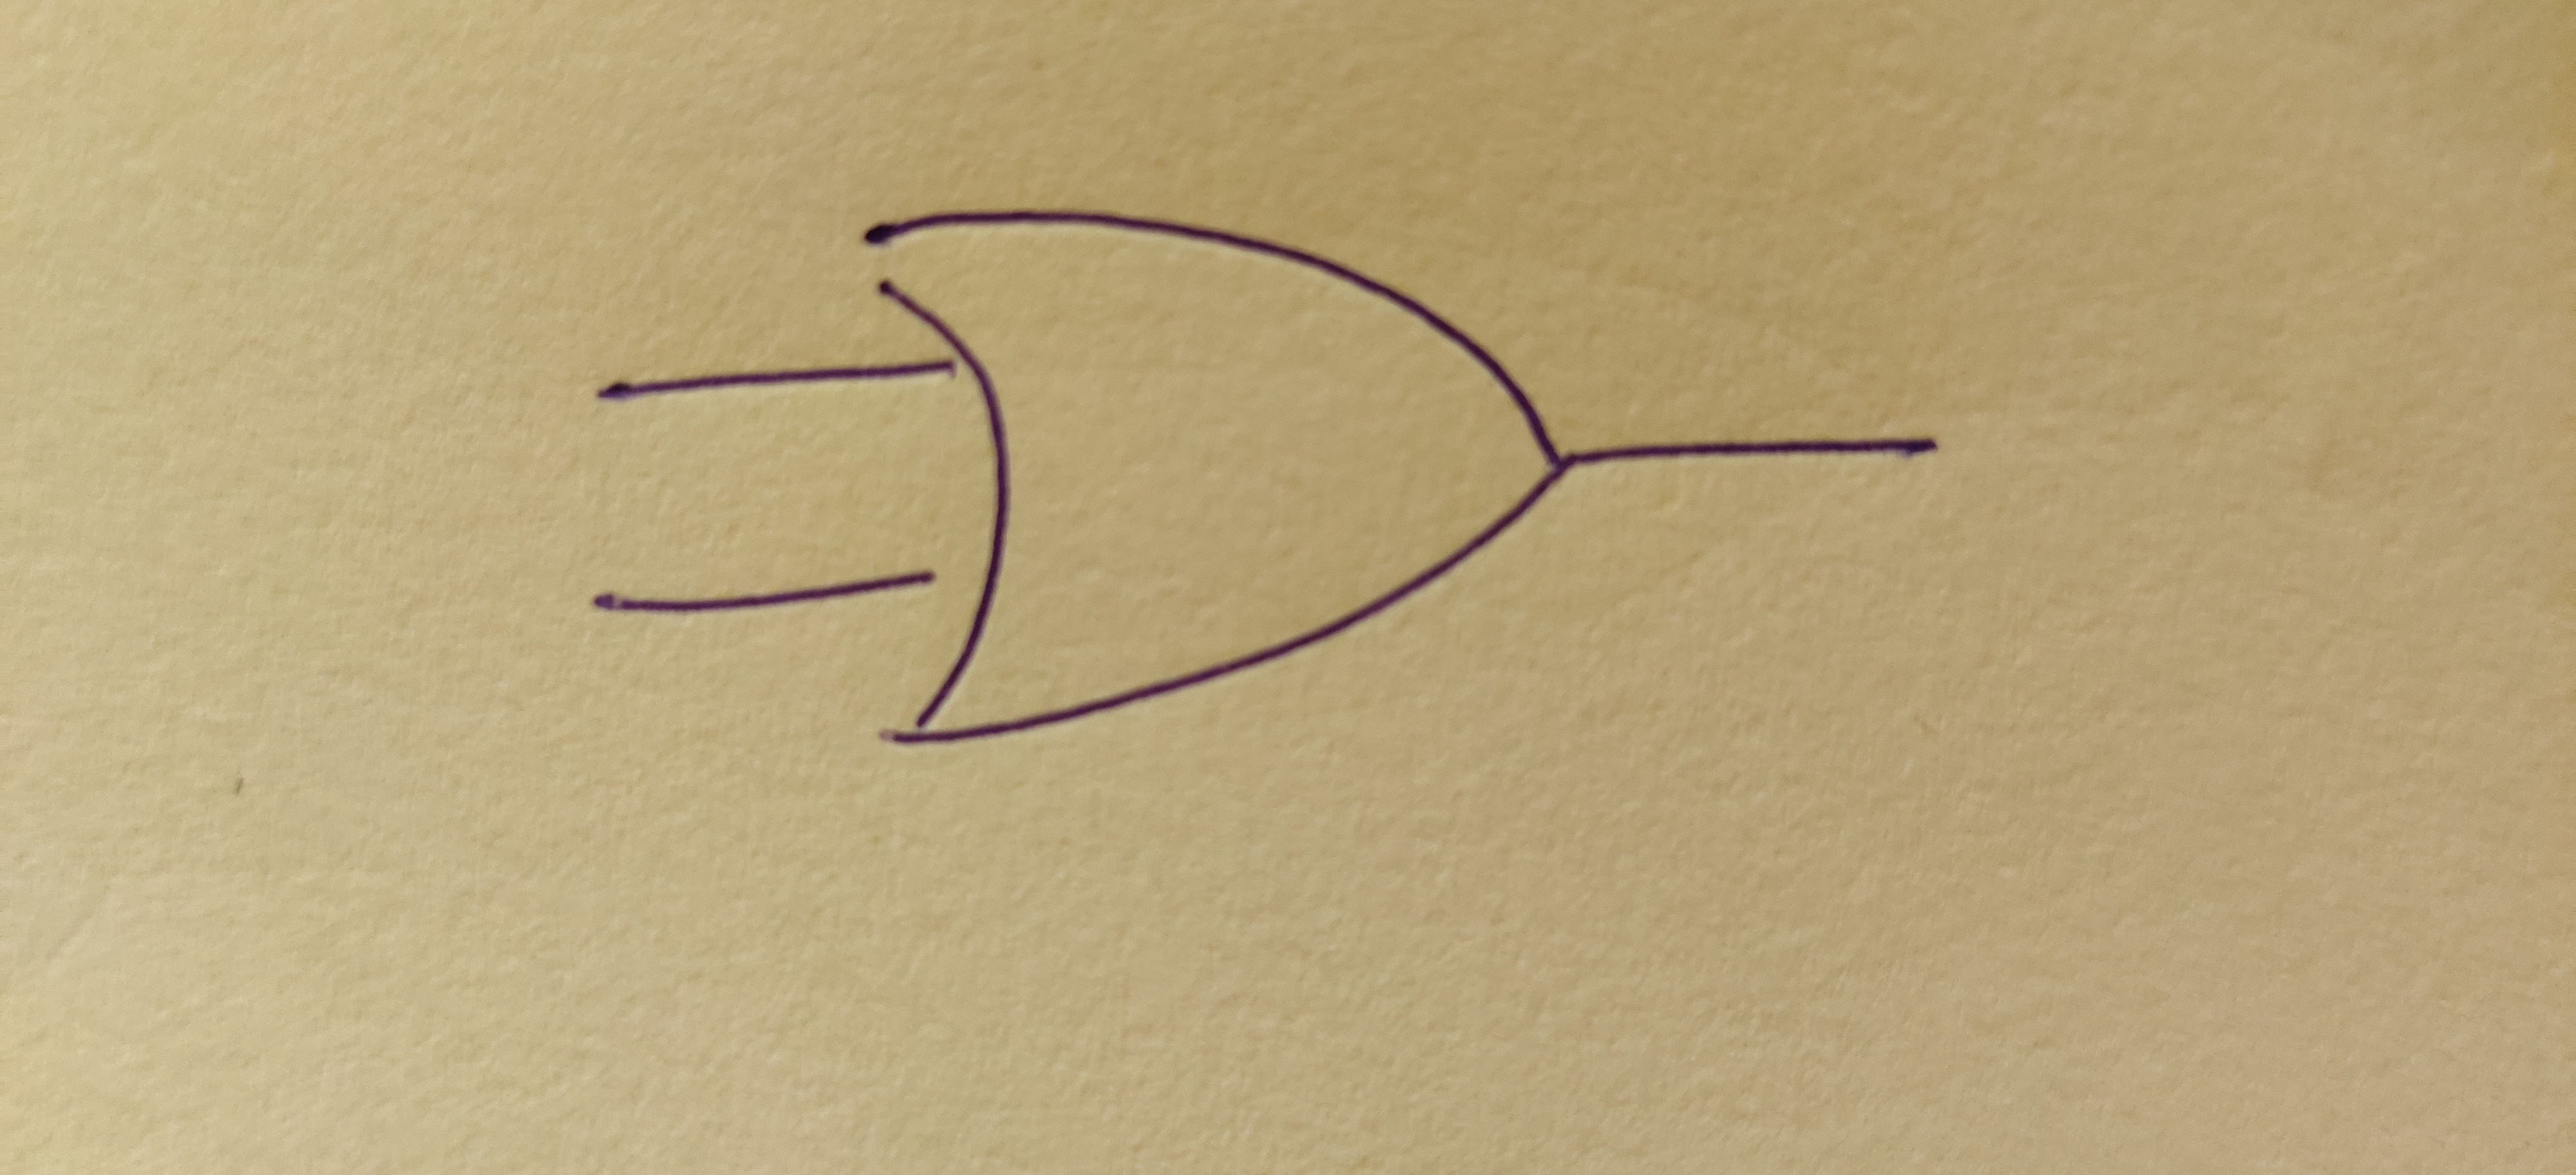or: (867, 212, 1562, 746)
